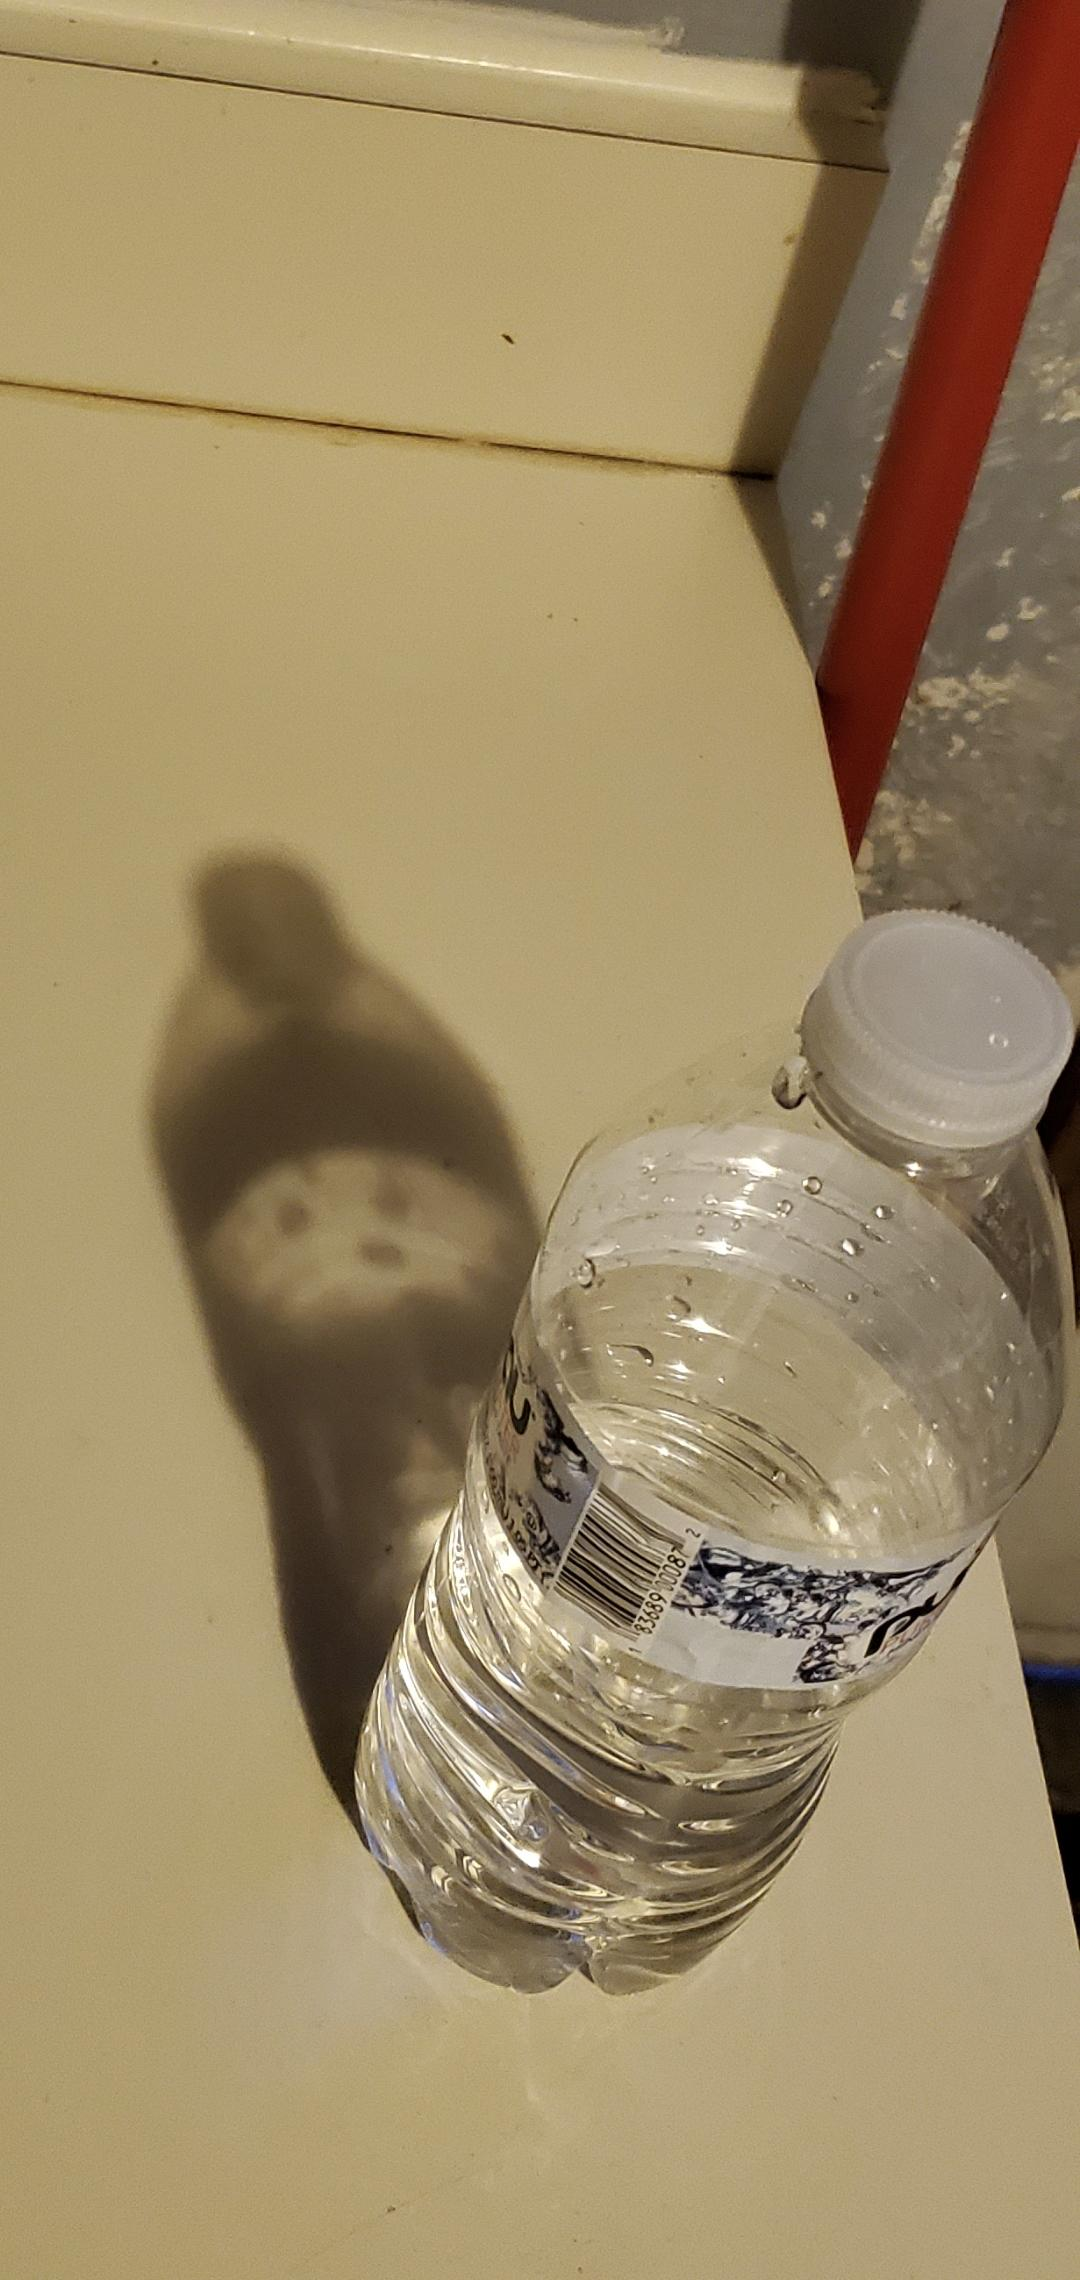plastic_bottle: (321, 896, 1080, 2033)
